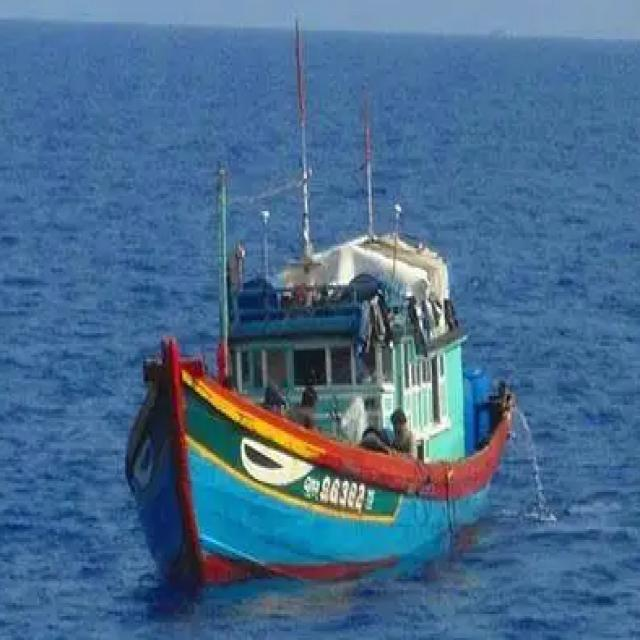fishing boat: (128, 63, 520, 592)
